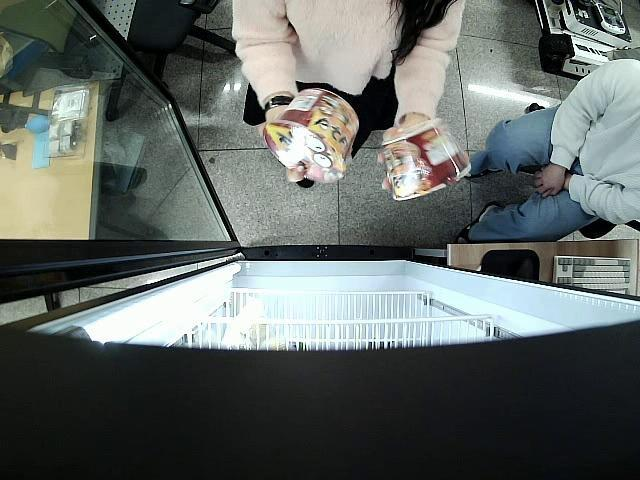05_nuguri_L: (262, 88, 359, 182), (381, 118, 472, 202)
